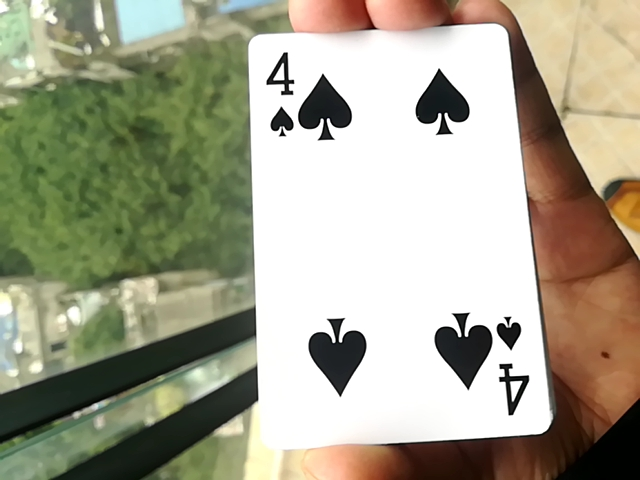ht 4: (236, 36, 565, 458)
